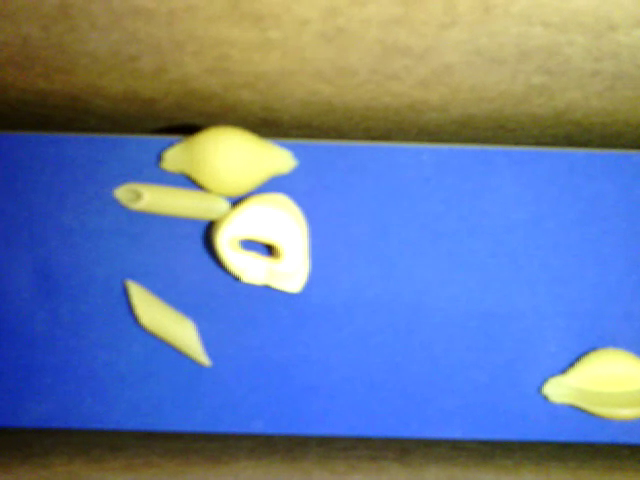penne: (124, 277, 213, 367), (112, 181, 232, 222)
shell: (163, 125, 300, 195), (539, 345, 639, 420)
tortellini: (211, 189, 311, 295)
